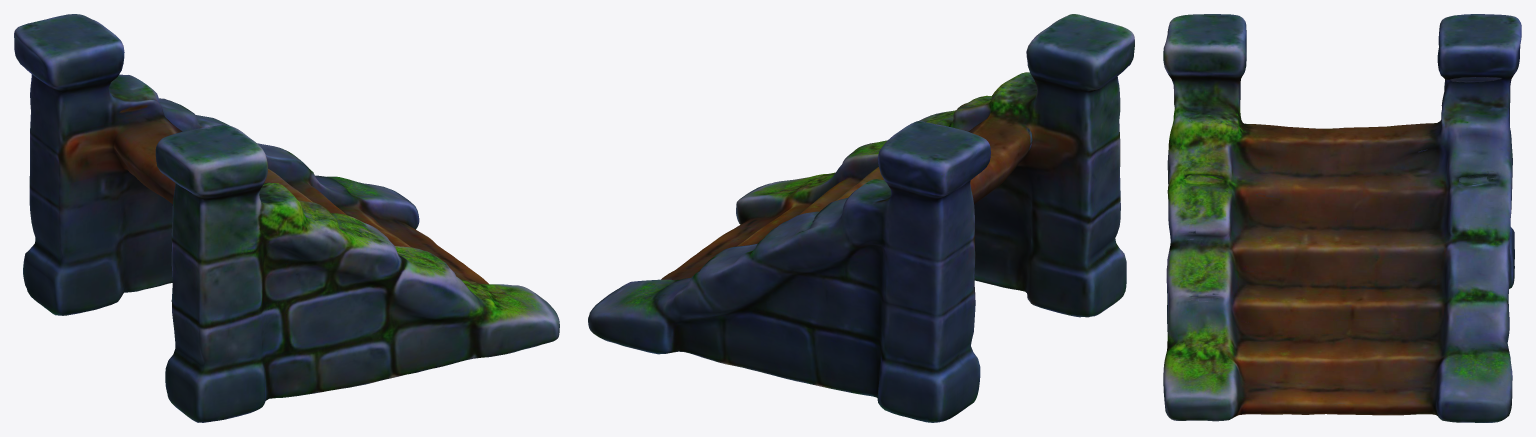
The model's file is eb7563c60a7b_stylized_low_poly_s.fbx.
3 views of the same model, side by side, from view 1: azimuth 30°, elevation 25°; view 2: azimuth 150°, elevation 25°; view 3: azimuth 270°, elevation 25° (orthographic). The views are drawn at different scales.
Visible parts, largest first — view 1: mesh; view 2: mesh; view 3: mesh.
Boxes of the visible parts, x1,y1,x2,y2 form: mesh: (14, 14, 559, 422); mesh: (588, 14, 1134, 422); mesh: (1163, 14, 1521, 422).
Size of the model in its own units: 99.79 by 67.81 by 89.11.
